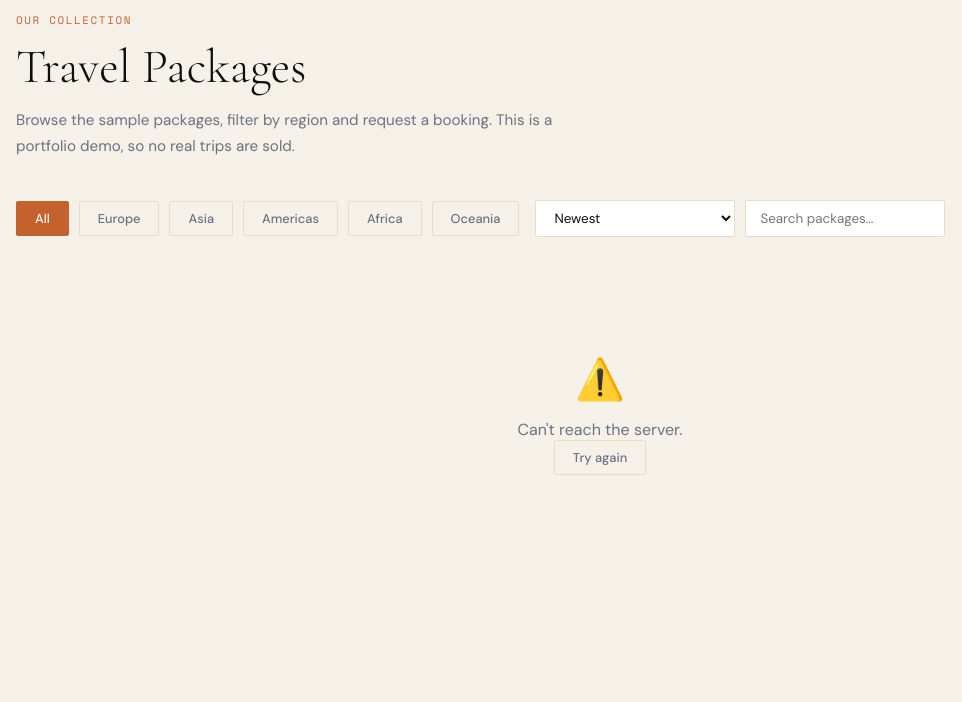
Test: Packages page › shows a real error with retry instead of 'no packages match'
Expected: the message shows "Can't reach the server.", x1=518 y1=419 x2=683 y2=440
Click the button "Try again". click: (600, 457)
box: x1=554 y1=440 x2=646 y2=475
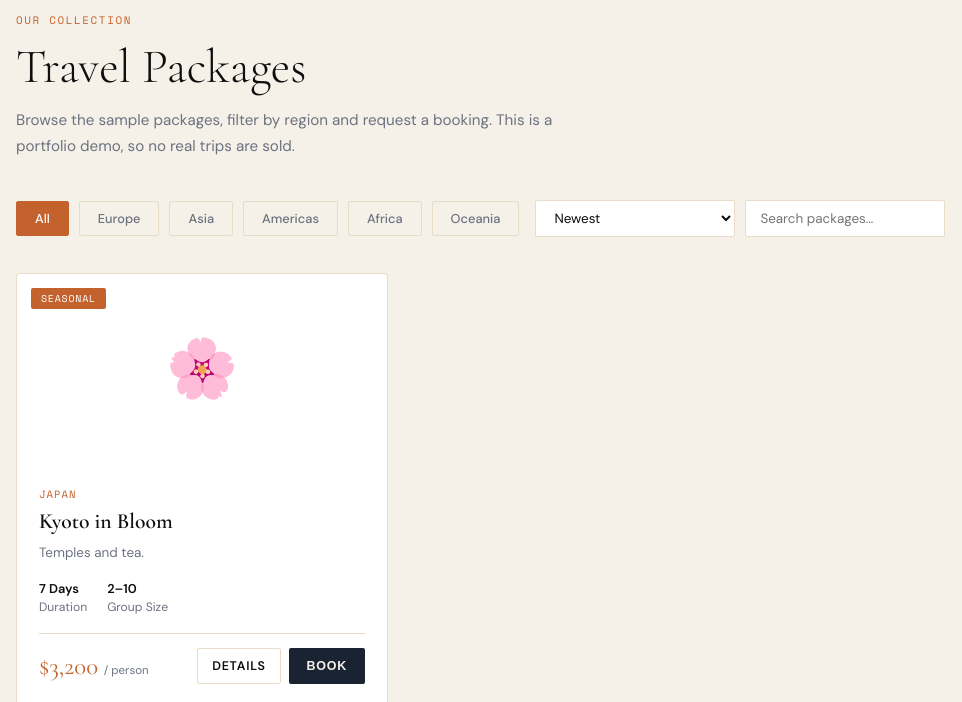
Now the link "Kyoto in Bloom" is shown, box x1=39 y1=508 x2=173 y2=534
